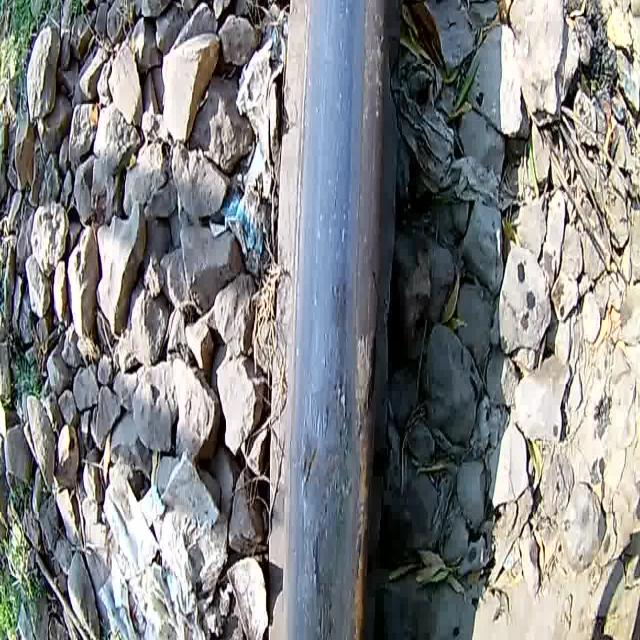Squats: (263, 0, 411, 640)
